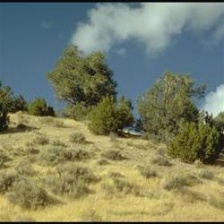neutral: (4, 4, 224, 221)
